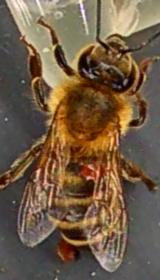varroa_mite: (76, 158, 111, 180)
